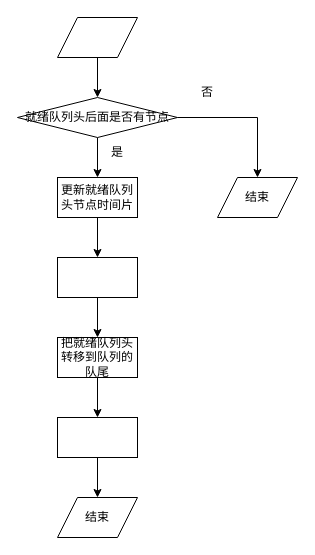
This 315x555 diagram has some shape labels left out. Here are the shapes that lost their labels. From the top down, the box of each, then its label:
(56, 16, 138, 58): 开始
(56, 256, 138, 298): 分离出就绪队列头节点
(56, 416, 138, 458): 更新就绪队列头尾指针
